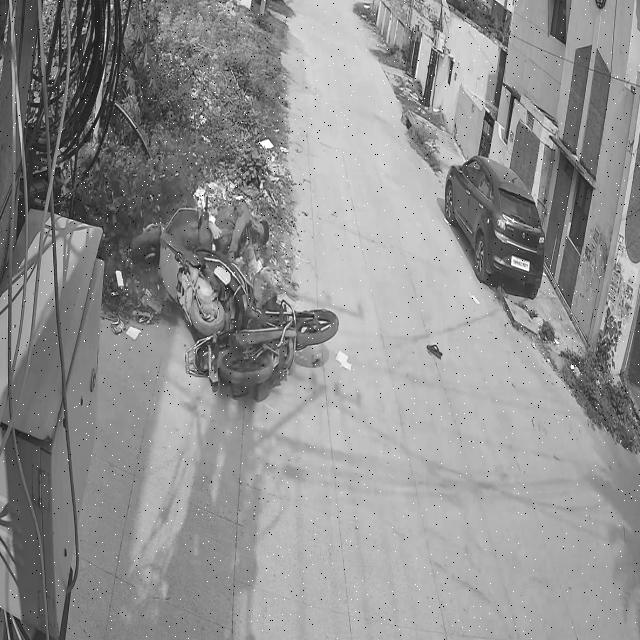accident: (123, 183, 344, 401)
